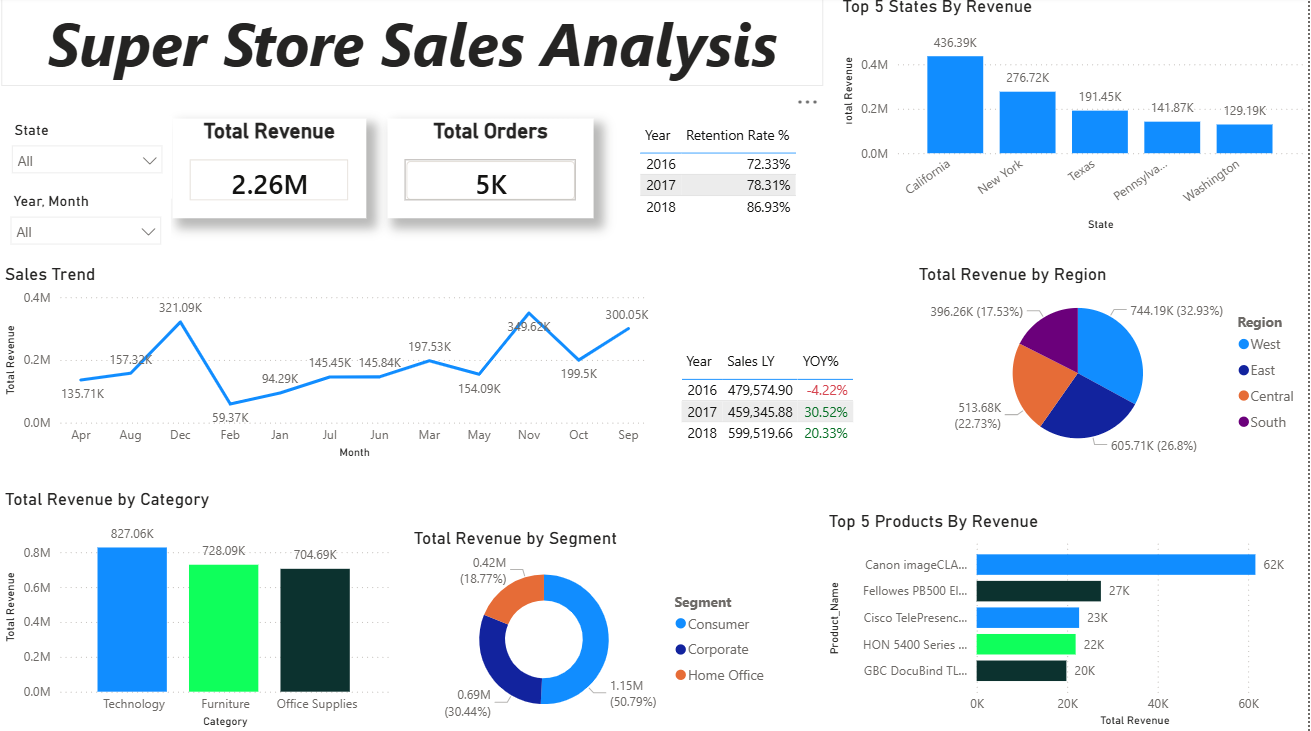

What the dashboard file says about the page in this screenshot:
{"tool":"powerbi","page":{"name":"Page 1","canvas":[1280,720],"ordinal":0},"visuals":[{"type":"cardVisual","title":"Total Revenue","fields":{"Data":["Customers.Total Revenue"]},"box":[167.5,0,184.6,99],"z":0},{"type":"cardVisual","title":"Total Orders","fields":{"Data":["Customers.TotalOrders"]},"box":[352.2,0,201.8,97.8],"z":1000},{"type":"slicer","fields":{"Values":["Customers.State"]},"box":[0,0,167.5,80.7],"z":2000},{"type":"slicer","fields":{"Values":["DimDate.Year","DimDate.Month"]},"box":[0,78.3,167.5,59.9],"z":3000},{"type":"barChart","title":"Top 5 Products By Revenue","fields":{"Category":["Products.Product_Name"],"Y":["Customers.Total Revenue"]},"box":[805.8,503.8,474.5,216.4],"z":4000},{"type":"lineChart","title":"Sales Trend","fields":{"Y":["Customers.Total Revenue"],"Category":["DimDate.Month","DimDate.Date.Variation.Date Hierarchy.Quarter","DimDate.Year"]},"box":[240.9,261.7,639.5,195.7],"z":5000},{"type":"donutChart","fields":{"Category":["Customers.Segment"],"Y":["Customers.Total Revenue"]},"box":[399.9,519.7,362,200.5],"z":6000},{"type":"clusteredColumnChart","title":"Top 5 States By Revenue","fields":{"Category":["Customers.State"],"Y":["Customers.Total Revenue"]},"box":[819.3,0,461,234.8],"z":7000},{"type":"columnChart","fields":{"Category":["Products.Category"],"Y":["Customers.Total Revenue"]},"box":[0,481.6,387,238.8],"z":8000},{"type":"pieChart","fields":{"Category":["Customers.Region"],"Y":["Customers.Total Revenue"]},"box":[893.9,261.7,386.4,195.7],"z":9000},{"type":"tableEx","fields":{"Values":["DimDate.Year","Customers.Sales LY","Customers.YOY%"]},"box":[577.2,118.6,203,116.2],"z":10000},{"type":"textbox","box":[0,176.1,214,205.4],"z":10001},{"type":"tableEx","fields":{"Values":["DimDate.Date.Variation.Date Hierarchy.Year","Customers.Retention Rate %"]},"box":[598,0,207.9,108.8],"z":10002}]}

Visuals, with their boxes in screenshot pixels (x1, y1, x2, y2), scaled from the page's 1280x720 canvas onto the 1311x731 screenshot:
"Total Revenue" cardVisual: detection(172, 0, 361, 101)
"Total Orders" cardVisual: detection(361, 0, 567, 99)
slicer - Customers.State: detection(0, 0, 172, 82)
slicer - DimDate.Year x DimDate.Month: detection(0, 79, 172, 140)
"Top 5 Products By Revenue" barChart: detection(825, 511, 1310, 730)
"Sales Trend" lineChart: detection(247, 266, 902, 464)
donutChart - Customers.Segment x Customers.Total Revenue: detection(410, 528, 780, 730)
"Top 5 States By Revenue" clusteredColumnChart: detection(839, 0, 1310, 238)
columnChart - Products.Category x Customers.Total Revenue: detection(0, 489, 396, 730)
pieChart - Customers.Region x Customers.Total Revenue: detection(916, 266, 1310, 464)
tableEx - DimDate.Year x Customers.Sales LY: detection(591, 120, 799, 238)
textbox: detection(0, 179, 219, 387)
tableEx - DimDate.Date.Variation.Date Hierarchy.Year x Customers.Retention Rate %: detection(612, 0, 825, 110)
